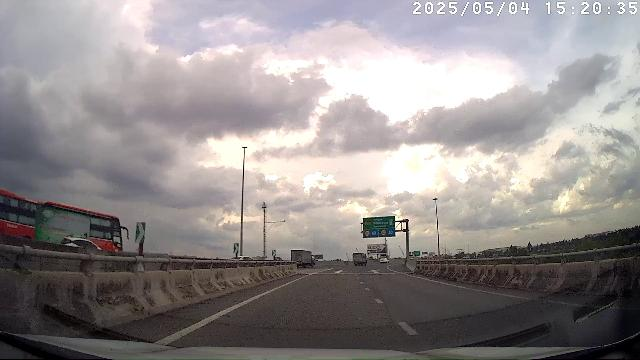437-bat-dau-duong-cao-toc: (388, 218, 394, 226)
